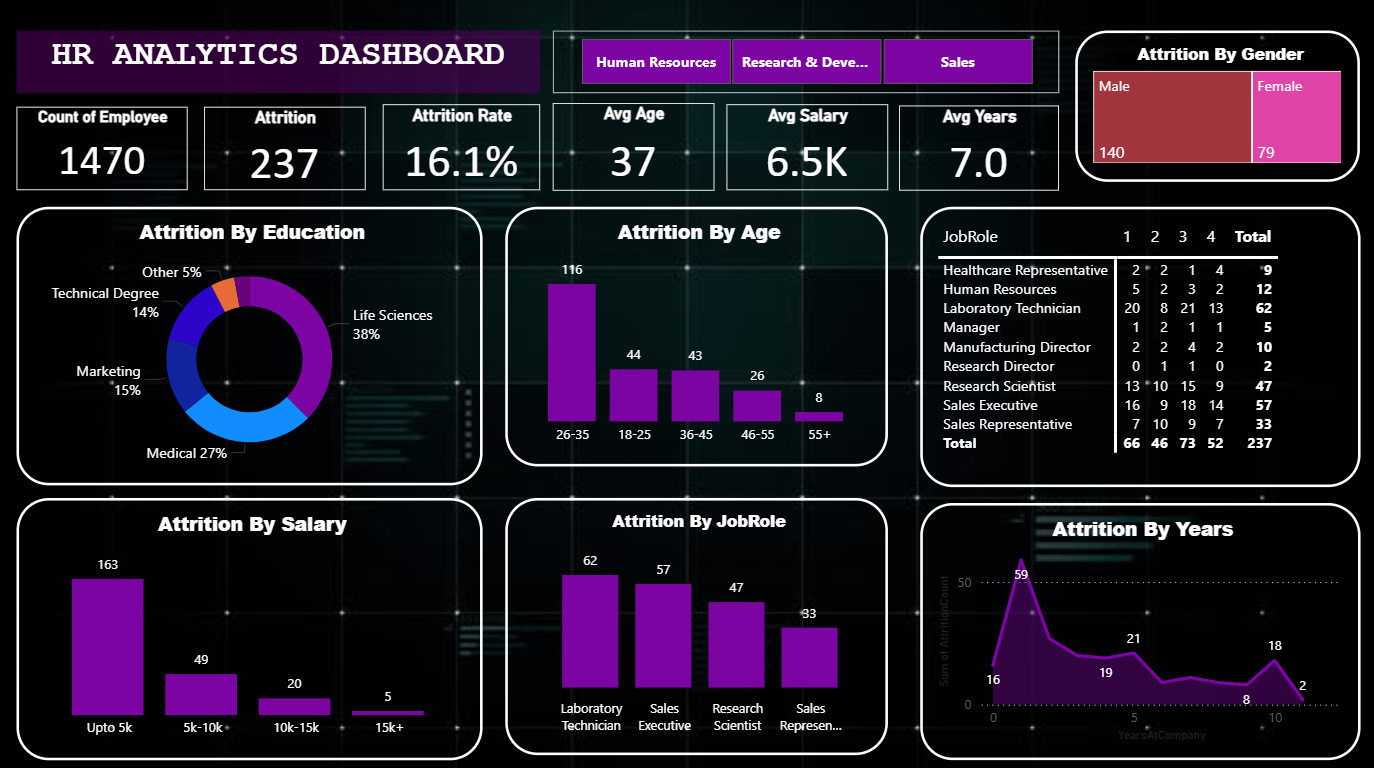

The page's visual inventory and layout, read from the dashboard file:
{"tool":"powerbi","page":{"name":"Page 1","canvas":[1280,720],"ordinal":0},"visuals":[{"type":"card","title":"Count of Employee","fields":{"Values":["CountNonNull(HR_Analytics.EmpID)"]},"box":[16.3,101.2,159.3,77.9],"z":0},{"type":"card","title":"Attrition Rate","fields":{"Values":["HR_Analytics.AttritionRate"]},"box":[357,98.8,146.5,80.2],"z":1000},{"type":"card","title":"Avg Age","fields":{"Values":["Avg(HR_Analytics.Age)"]},"box":[515.1,97.7,150,81.4],"z":2000},{"type":"card","title":"Attrition","fields":{"Values":["Sum(HR_Analytics.AttritionCount)"]},"box":[190.7,101.2,150,77.9],"z":3000},{"type":"card","title":"Avg Salary","fields":{"Values":["Avg(HR_Analytics.MonthlyIncome)"]},"box":[676.7,98.8,150,80.2],"z":4000},{"type":"card","title":"Avg Years","fields":{"Values":["Avg(HR_Analytics.YearsAtCompany)"]},"box":[837.2,100,148.8,79.1],"z":5000},{"type":"donutChart","title":"Attrition By Education","fields":{"Category":["HR_Analytics.EducationField"],"Y":["Sum(HR_Analytics.AttritionCount)"]},"box":[16.3,194.2,433.7,259.3],"z":6000},{"type":"columnChart","title":"Attrition By Age","fields":{"Category":["HR_Analytics.AgeGroup"],"Y":["Sum(HR_Analytics.AttritionCount)"]},"box":[470.9,194.2,355.8,241.9],"z":7000},{"type":"pivotTable","fields":{"Rows":["HR_Analytics.JobRole"],"Columns":["HR_Analytics.JobSatisfaction"],"Values":["Sum(HR_Analytics.AttritionCount)"]},"box":[857,194.2,409.3,260.5],"z":8000},{"type":"columnChart","title":"Attrition By Salary","fields":{"Category":["HR_Analytics.SalarySlab"],"Y":["Sum(HR_Analytics.AttritionCount)"]},"box":[16.3,465.1,433.7,244.2],"z":9000},{"type":"columnChart","title":"Attrition By JobRole","fields":{"Category":["HR_Analytics.JobRole"],"Y":["Sum(HR_Analytics.AttritionCount)"]},"box":[470.9,465.1,355.8,239.5],"z":10000},{"type":"areaChart","title":"Attrition By Years","fields":{"Category":["HR_Analytics.YearsAtCompany"],"Y":["Sum(HR_Analytics.AttritionCount)"]},"box":[857,469.8,409.3,239.5],"z":11000},{"type":"treemap","title":"Attrition By Gender","fields":{"Group":["HR_Analytics.Gender"],"Values":["Sum(HR_Analytics.AttritionCount)"]},"box":[1001.2,30.2,265.1,148.8],"z":12000},{"type":"slicer","fields":{"Values":["HR_Analytics.Department"]},"box":[515.1,30.2,470.9,58.1],"z":13000},{"type":"textbox","box":[16.3,30.2,487.2,58.1],"z":14000}]}

Visuals, with their boxes in screenshot pixels (x1, y1, x2, y2), scaled from the page's 1280x720 canvas onto the 1374x768 screenshot:
"Count of Employee" card: detection(17, 108, 188, 191)
"Attrition Rate" card: detection(383, 105, 540, 191)
"Avg Age" card: detection(553, 104, 714, 191)
"Attrition" card: detection(205, 108, 366, 191)
"Avg Salary" card: detection(726, 105, 887, 191)
"Avg Years" card: detection(899, 107, 1058, 191)
"Attrition By Education" donutChart: detection(17, 207, 483, 484)
"Attrition By Age" columnChart: detection(505, 207, 887, 465)
pivotTable - HR_Analytics.JobRole x HR_Analytics.JobSatisfaction: detection(920, 207, 1359, 485)
"Attrition By Salary" columnChart: detection(17, 496, 483, 757)
"Attrition By JobRole" columnChart: detection(505, 496, 887, 752)
"Attrition By Years" areaChart: detection(920, 501, 1359, 757)
"Attrition By Gender" treemap: detection(1075, 32, 1359, 191)
slicer - HR_Analytics.Department: detection(553, 32, 1058, 94)
textbox: detection(17, 32, 540, 94)
